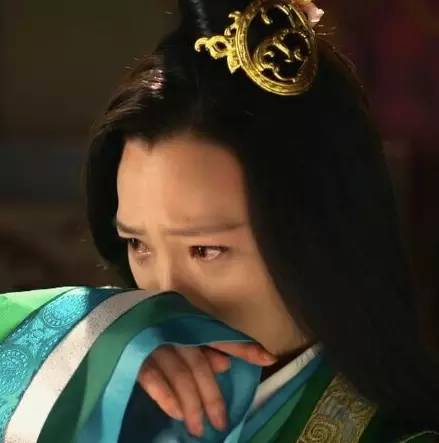face: (113, 142, 281, 371)
